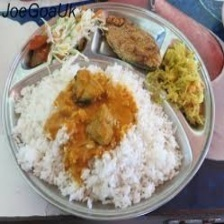rice: (7, 59, 189, 211)
